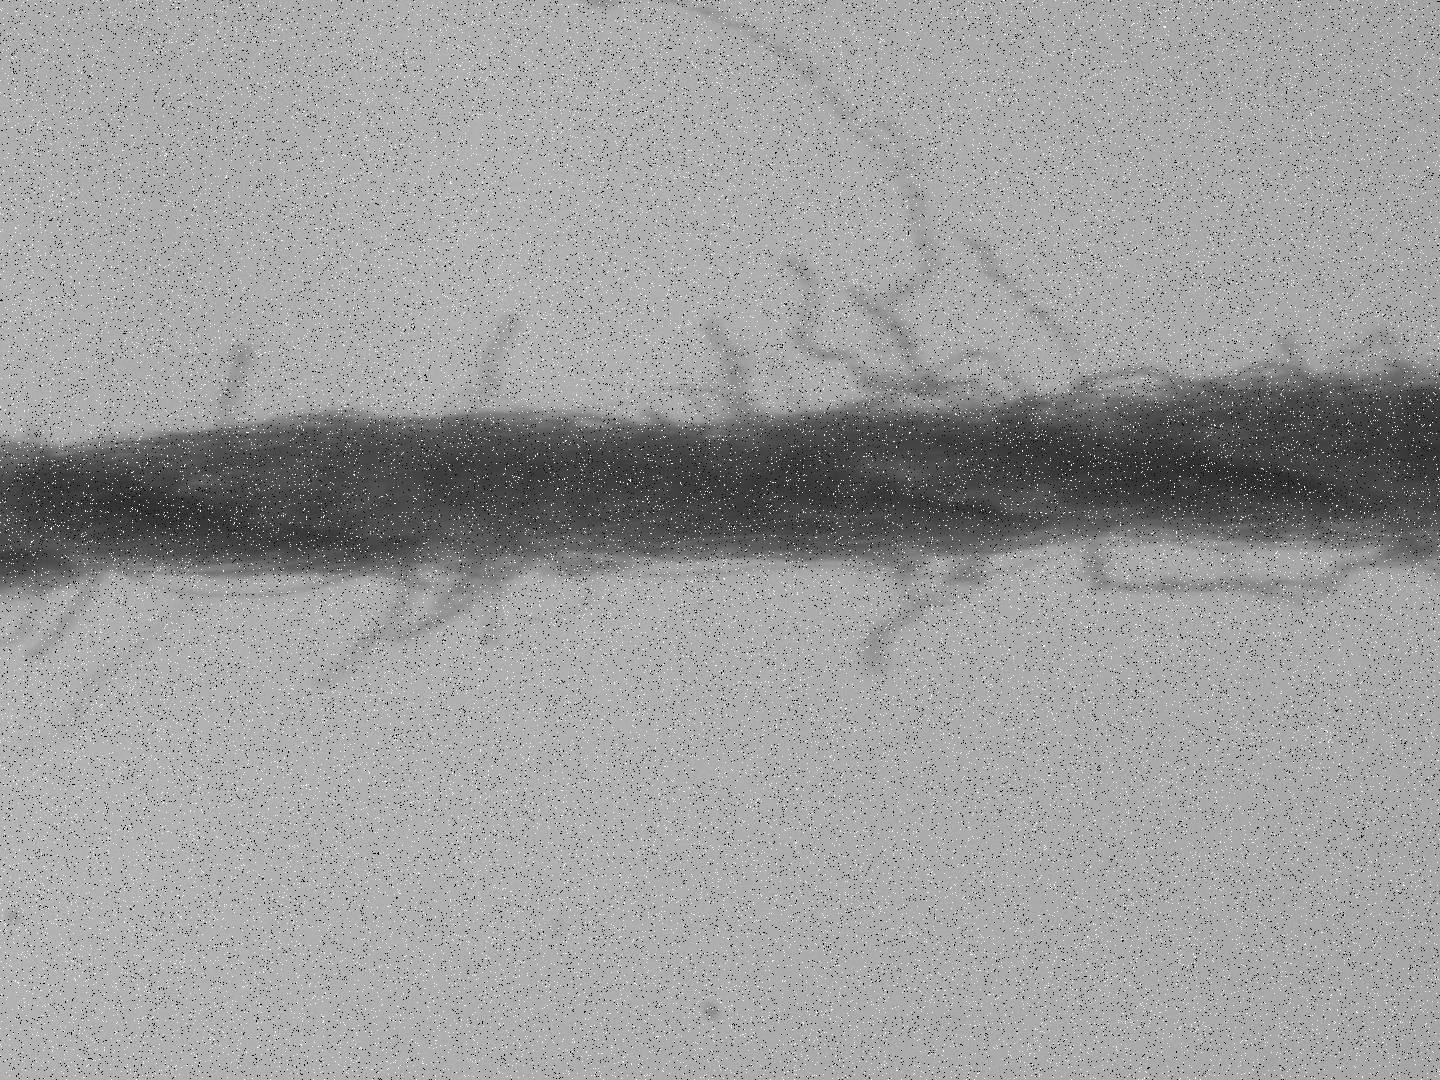loop_fiber: (1083, 534, 1439, 602)
protruding_fiber: (955, 226, 1099, 397), (215, 336, 256, 438)
